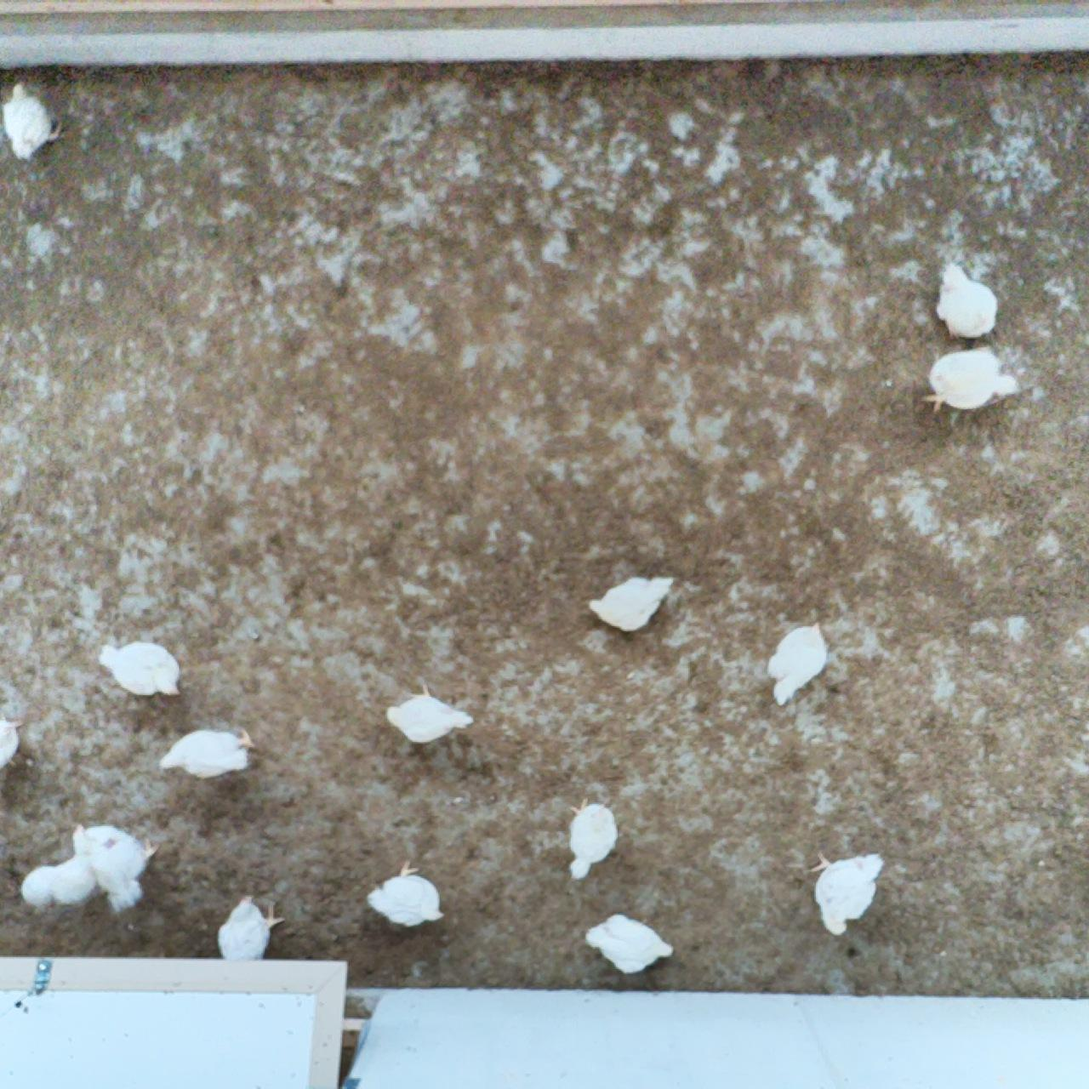chicken: (11, 819, 99, 915), (802, 845, 885, 945), (919, 342, 1025, 420), (76, 817, 160, 913), (153, 718, 256, 788), (364, 852, 449, 936), (382, 678, 480, 750), (761, 616, 831, 714), (553, 787, 621, 885), (584, 908, 676, 979), (92, 637, 184, 707), (0, 76, 67, 168), (586, 568, 679, 634), (934, 257, 1003, 343), (214, 892, 291, 963), (0, 706, 28, 776)
